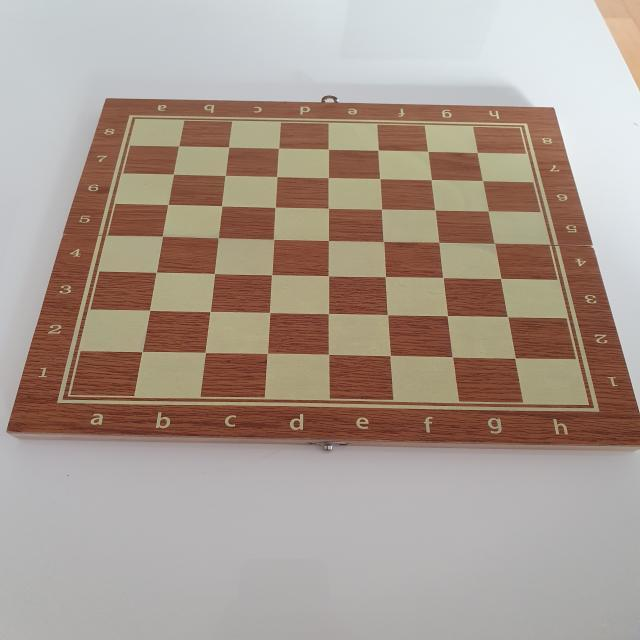chess-table-corners: (576, 394, 602, 419), (54, 388, 80, 408), (510, 116, 538, 134), (124, 112, 144, 125)
